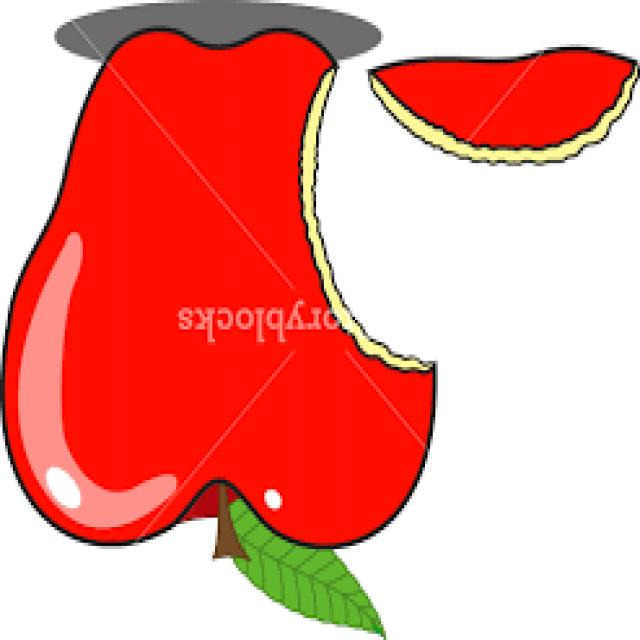Apple: (0, 28, 438, 562), (362, 34, 636, 211)
